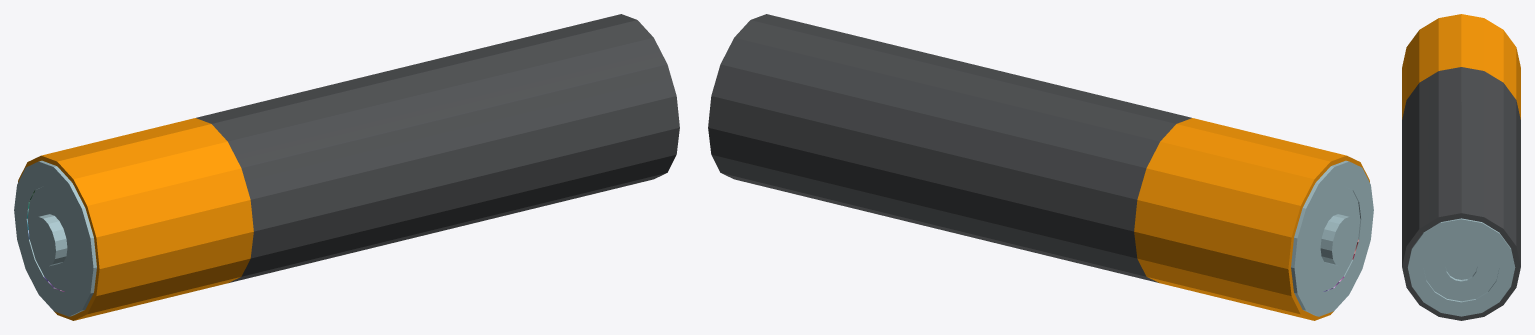
The model's file is pil.fbx.
The picture shows the model from 3 angles, left to right: view 1: azimuth 30°, elevation 25°; view 2: azimuth 150°, elevation 25°; view 3: azimuth 270°, elevation 25°; orthographic projection. The views are drawn at different scales.
Visible parts, largest first — view 1: Cylinder.038; view 2: Cylinder.038; view 3: Cylinder.038.
Boxes of the visible parts, box(x1,y1,x2,y2) form: Cylinder.038: box(14, 14, 679, 320); Cylinder.038: box(708, 14, 1373, 320); Cylinder.038: box(1402, 14, 1520, 320).
Size of the model in its own units: 38.81 by 9.53 by 9.53.
